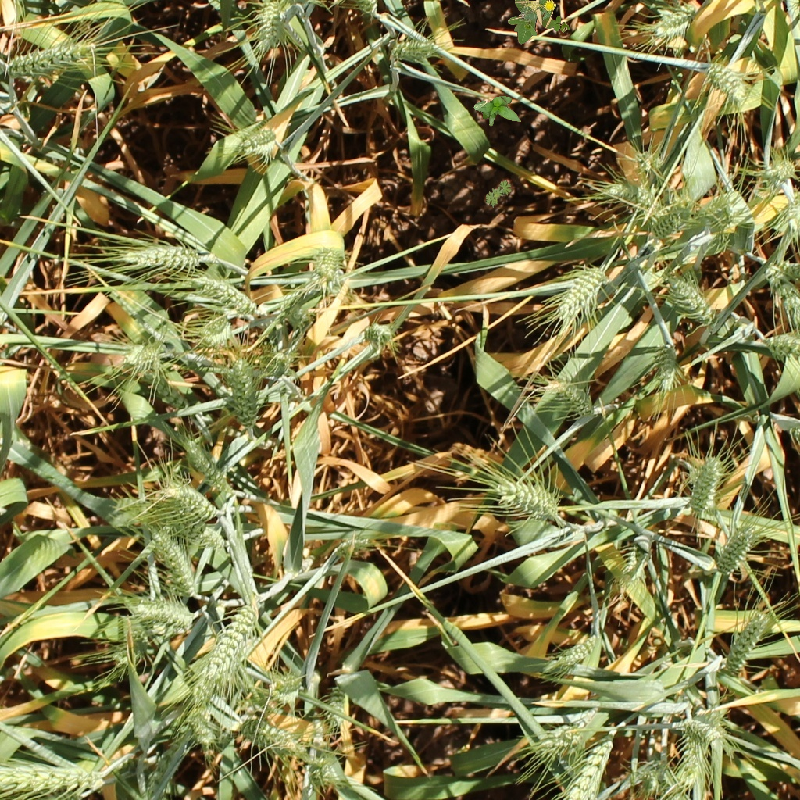spikelet: (200, 595, 263, 683), (1, 755, 105, 797), (556, 731, 617, 799), (1, 37, 97, 80), (148, 526, 201, 597), (553, 261, 609, 325), (721, 608, 771, 676), (190, 273, 262, 318), (492, 475, 563, 520), (663, 272, 718, 326), (157, 480, 221, 524), (183, 437, 232, 493), (127, 593, 195, 633), (224, 356, 262, 427), (714, 518, 759, 576), (119, 241, 205, 271), (686, 451, 726, 515), (243, 718, 305, 759), (646, 193, 695, 240), (703, 189, 750, 236), (672, 734, 710, 790), (704, 58, 751, 103), (551, 632, 601, 670), (652, 1, 698, 39), (253, 1, 290, 48), (551, 375, 594, 415), (307, 243, 347, 283), (651, 342, 682, 392), (603, 177, 653, 208), (678, 712, 724, 744), (185, 705, 220, 747), (265, 669, 305, 705), (538, 723, 583, 755), (391, 33, 438, 63), (238, 124, 280, 157), (196, 312, 235, 347), (761, 154, 796, 188), (122, 341, 162, 370), (764, 329, 800, 361), (763, 257, 799, 287), (176, 348, 211, 374), (363, 321, 394, 346), (634, 148, 662, 174), (348, 1, 383, 18)
weed: (500, 1, 580, 59), (473, 96, 521, 127), (486, 180, 513, 208)
